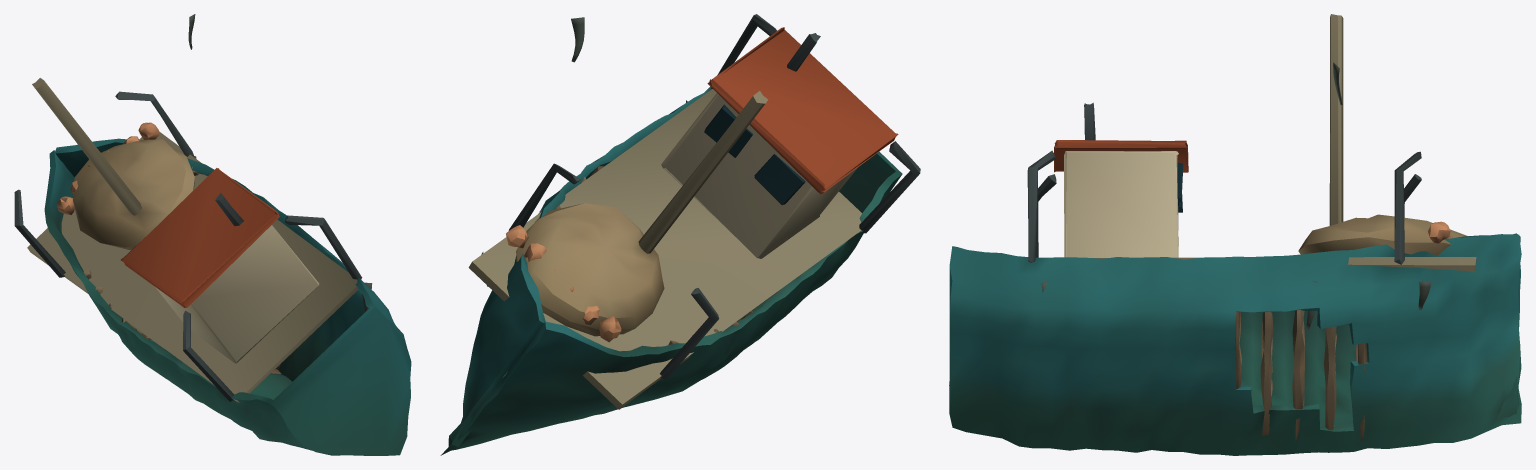
Rendered from wreck_trawler.glb.
3 views of the same model, side by side, from view 1: azimuth 30°, elevation 25°; view 2: azimuth 150°, elevation 25°; view 3: azimuth 270°, elevation 25° (orthographic). The views are drawn at different scales.
Visible parts, largest first — view 1: Trawler; view 2: Trawler; view 3: Trawler.
Boxes of the visible parts, box(x1,y1,x2,y2) form: Trawler: box(14, 14, 411, 455); Trawler: box(440, 14, 920, 455); Trawler: box(949, 14, 1521, 455).
Size of the model in its own units: 4.45 by 6.41 by 9.06.
